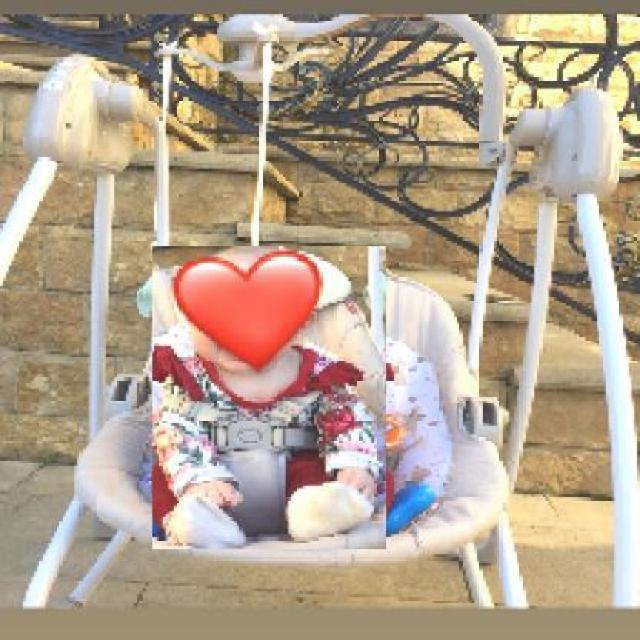child: (151, 246, 386, 551)
